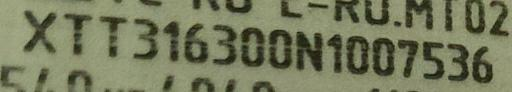letter: (20, 7, 60, 55), (262, 23, 296, 71), (95, 12, 129, 59), (130, 14, 162, 62), (293, 27, 325, 74), (234, 22, 266, 68), (208, 19, 238, 67), (182, 19, 212, 66), (62, 10, 92, 56), (418, 39, 448, 83), (160, 17, 184, 65), (344, 33, 370, 77), (395, 37, 421, 81), (323, 29, 347, 75), (444, 40, 470, 82), (470, 41, 496, 83), (370, 35, 394, 78)
